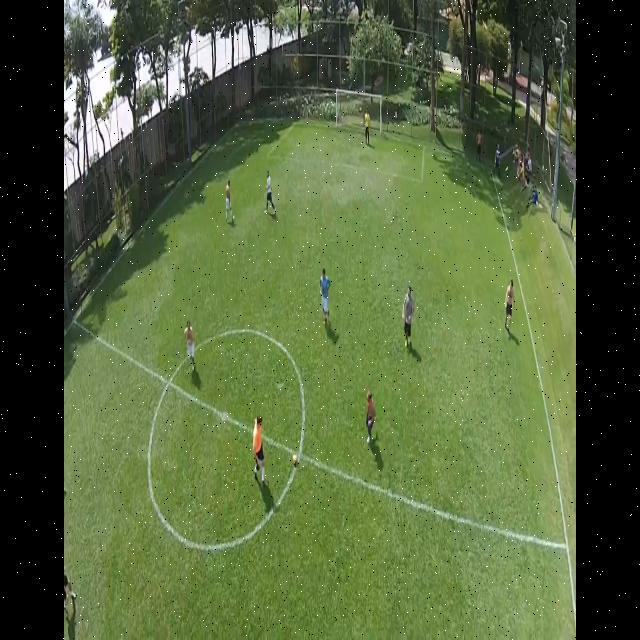humans: (249, 406, 267, 490), (401, 280, 416, 354), (317, 263, 333, 332), (182, 311, 196, 377), (364, 386, 378, 450), (502, 272, 516, 336), (264, 164, 278, 220), (224, 175, 236, 233), (361, 101, 374, 152)
